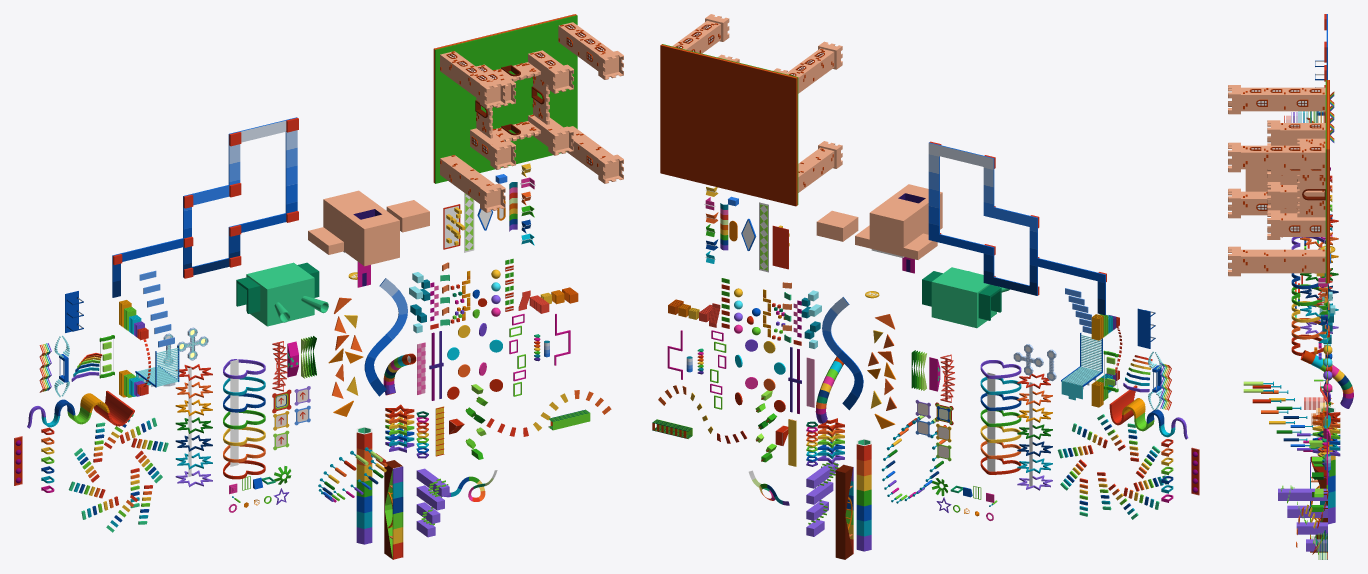
File: platforms-for-games.fbx
The picture shows the model from 3 angles, left to right: view 1: azimuth 30°, elevation 25°; view 2: azimuth 150°, elevation 25°; view 3: azimuth 270°, elevation 25°; orthographic projection. The views are drawn at different scales.
Parts seen in each view (by area): view 1: Castle_Color_0, L13_Color_0, Obby_Color_0, Alien_Color_0, L14_Color_0, L15_Color_0, L16_Color_0, L7_Color_0, 33_Color_0, 34_Color_0, L10_Color_0, 27_Color_0 (+6 smaller); view 2: Castle_Color_0, L13_Color_0, Obby_Color_0, Alien_Color_0, L15_Color_0, L14_Color_0, L7_Color_0, L16_Color_0, 34_Color_0, 33_Color_0, L10_Color_0, 27_Color_0 (+8 smaller); view 3: Castle_Color_0, 27_Color_0, 31_Color_0, L14_Color_0, L16_Color_0, 28_Color_0, Obby_Color_0, 29_Color_0, 34_Color_0, 24_Color_0, Castle_Emissive_0, x5_Color_0 (+11 smaller).
Part boxes in pixels (box(x1,y1,x2,y2)): Castle_Color_0: box(433, 14, 623, 212); L13_Color_0: box(112, 117, 298, 297); Obby_Color_0: box(308, 190, 399, 287); Alien_Color_0: box(236, 262, 328, 326); L14_Color_0: box(223, 359, 265, 479); L15_Color_0: box(68, 414, 168, 532); L16_Color_0: box(175, 364, 212, 487); L7_Color_0: box(135, 270, 179, 387); 33_Color_0: box(384, 460, 403, 559); 34_Color_0: box(356, 427, 372, 544); L10_Color_0: box(27, 390, 134, 428); 27_Color_0: box(416, 468, 449, 537); Castle_Color_0: box(660, 14, 842, 206); L13_Color_0: box(928, 141, 1106, 314); Obby_Color_0: box(855, 184, 942, 273); Alien_Color_0: box(922, 267, 1009, 328); L15_Color_0: box(1057, 414, 1167, 519); L14_Color_0: box(980, 360, 1021, 474); L7_Color_0: box(1061, 288, 1102, 400); L16_Color_0: box(1017, 373, 1052, 490); 34_Color_0: box(856, 439, 871, 551); 33_Color_0: box(835, 464, 853, 559); L10_Color_0: box(1109, 385, 1188, 439); 27_Color_0: box(806, 462, 838, 536); Castle_Color_0: box(1228, 80, 1329, 283); 27_Color_0: box(1278, 485, 1327, 554); 31_Color_0: box(1243, 381, 1318, 451); L14_Color_0: box(1291, 237, 1325, 355); L16_Color_0: box(1300, 214, 1338, 333); 28_Color_0: box(1300, 350, 1353, 408); Obby_Color_0: box(1245, 169, 1297, 191); 29_Color_0: box(1312, 410, 1340, 456); 34_Color_0: box(1320, 406, 1335, 524); 24_Color_0: box(1309, 440, 1327, 511); Castle_Emissive_0: box(1251, 90, 1319, 231); x5_Color_0: box(1318, 278, 1327, 342).
Bounding box in the file's own units: 21667 × 17509 × 4053.
3 materials, 1 textured.
